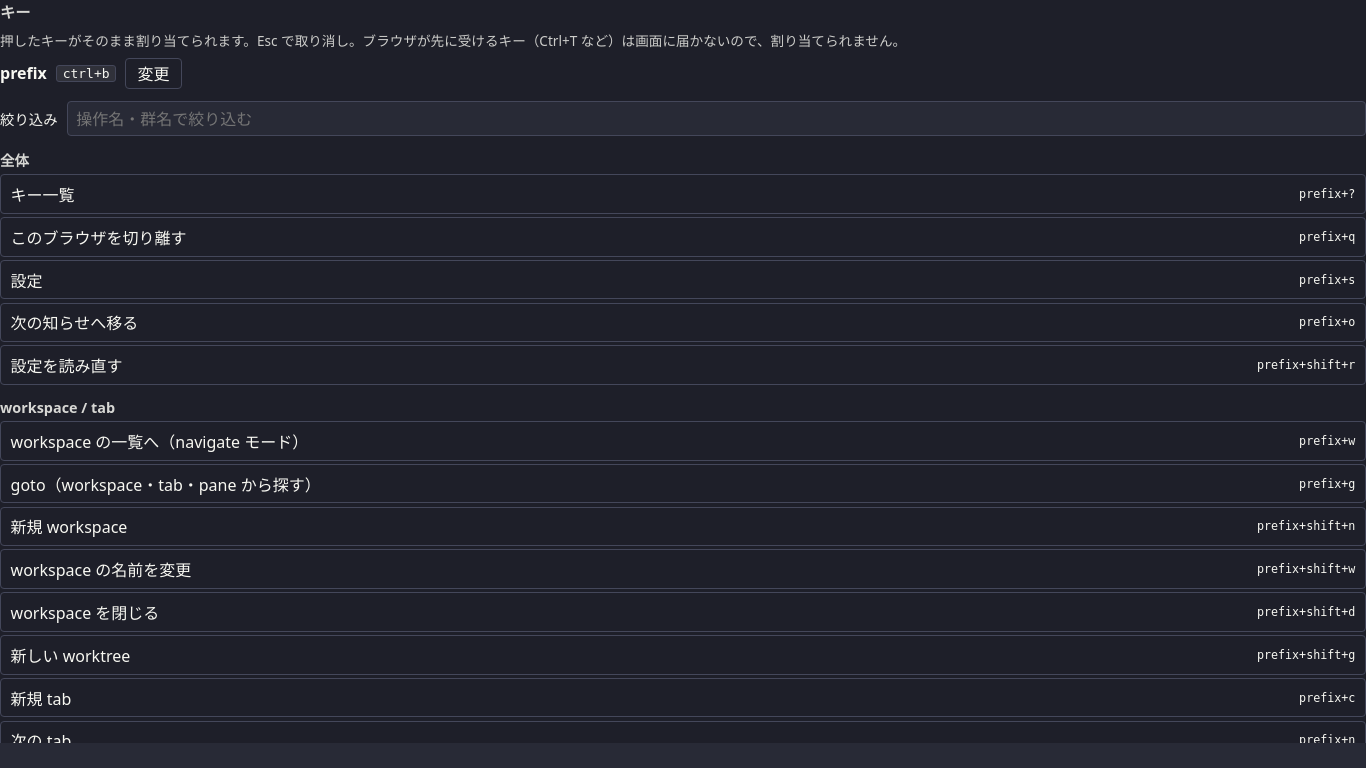
Scenario: KeySettings — 絞り込み（AC1・AC2・AC3・AC-I1〜AC-I5） › 入力を空にすると全部戻る（即時反映。AC3・AC-I2）
Step 1. Type "拡大表示" into the field with id "keys-filter-input" → (717, 119), box [67,101,1365,136]
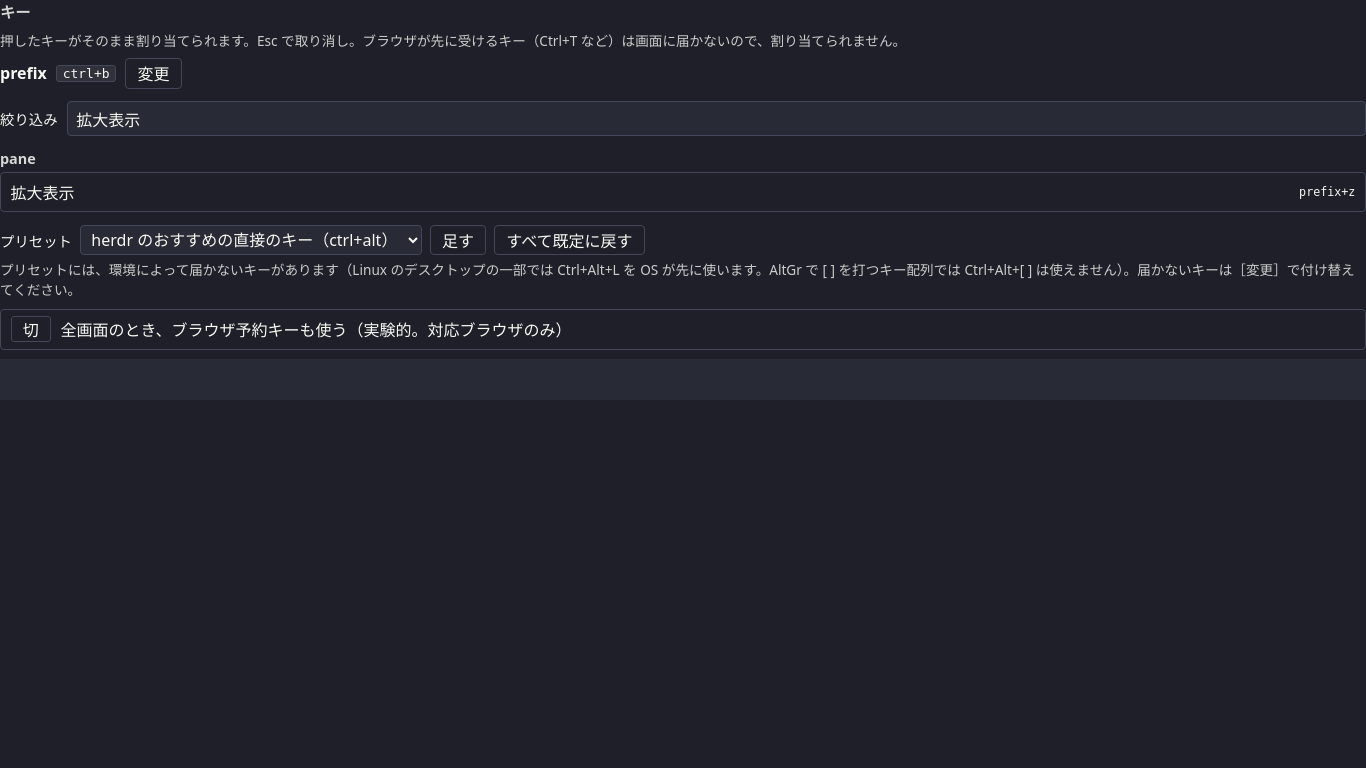
Result: the number of elements with class "keys-details" is 1 at [0,172,1365,212]
Step 2. Clear the field with id "keys-filter-input" → (717, 119), box [67,101,1365,136]
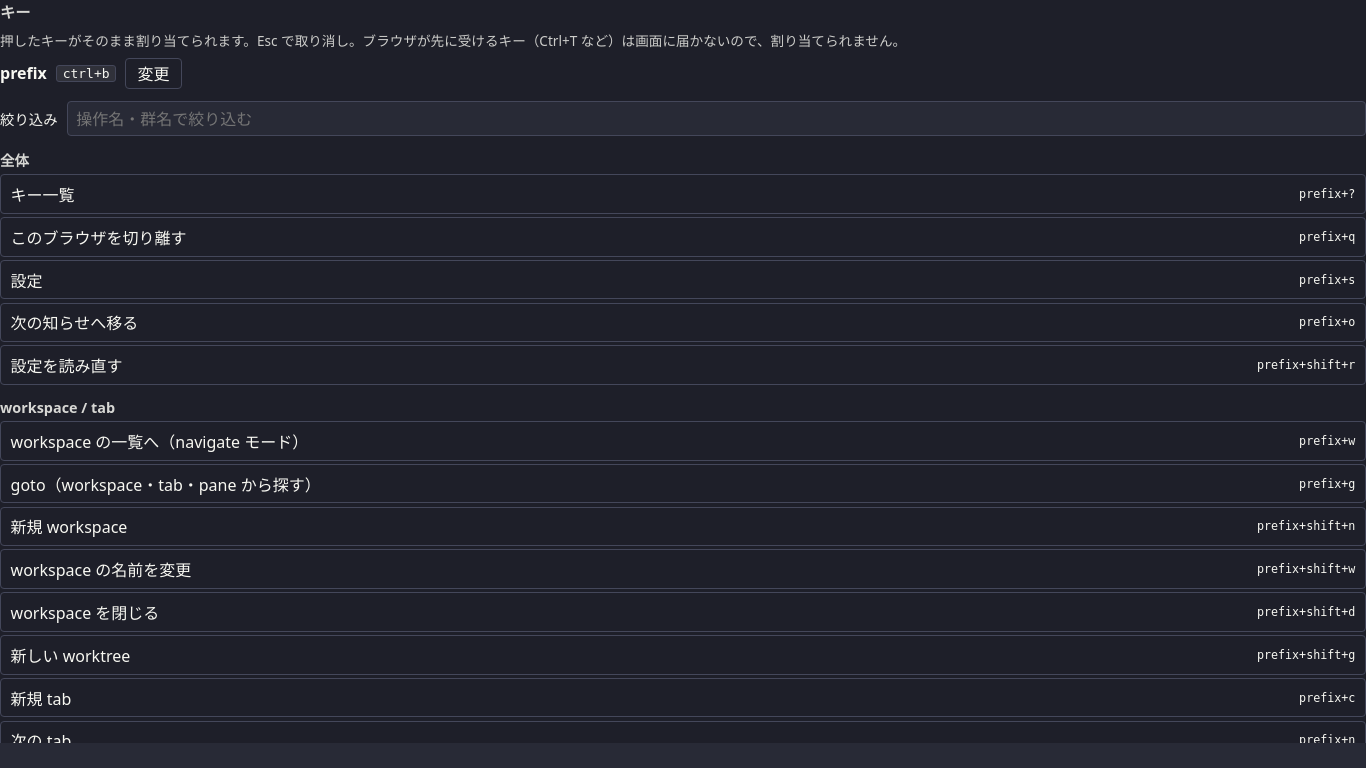
Result: the number of elements with class "keys-details" is 57
